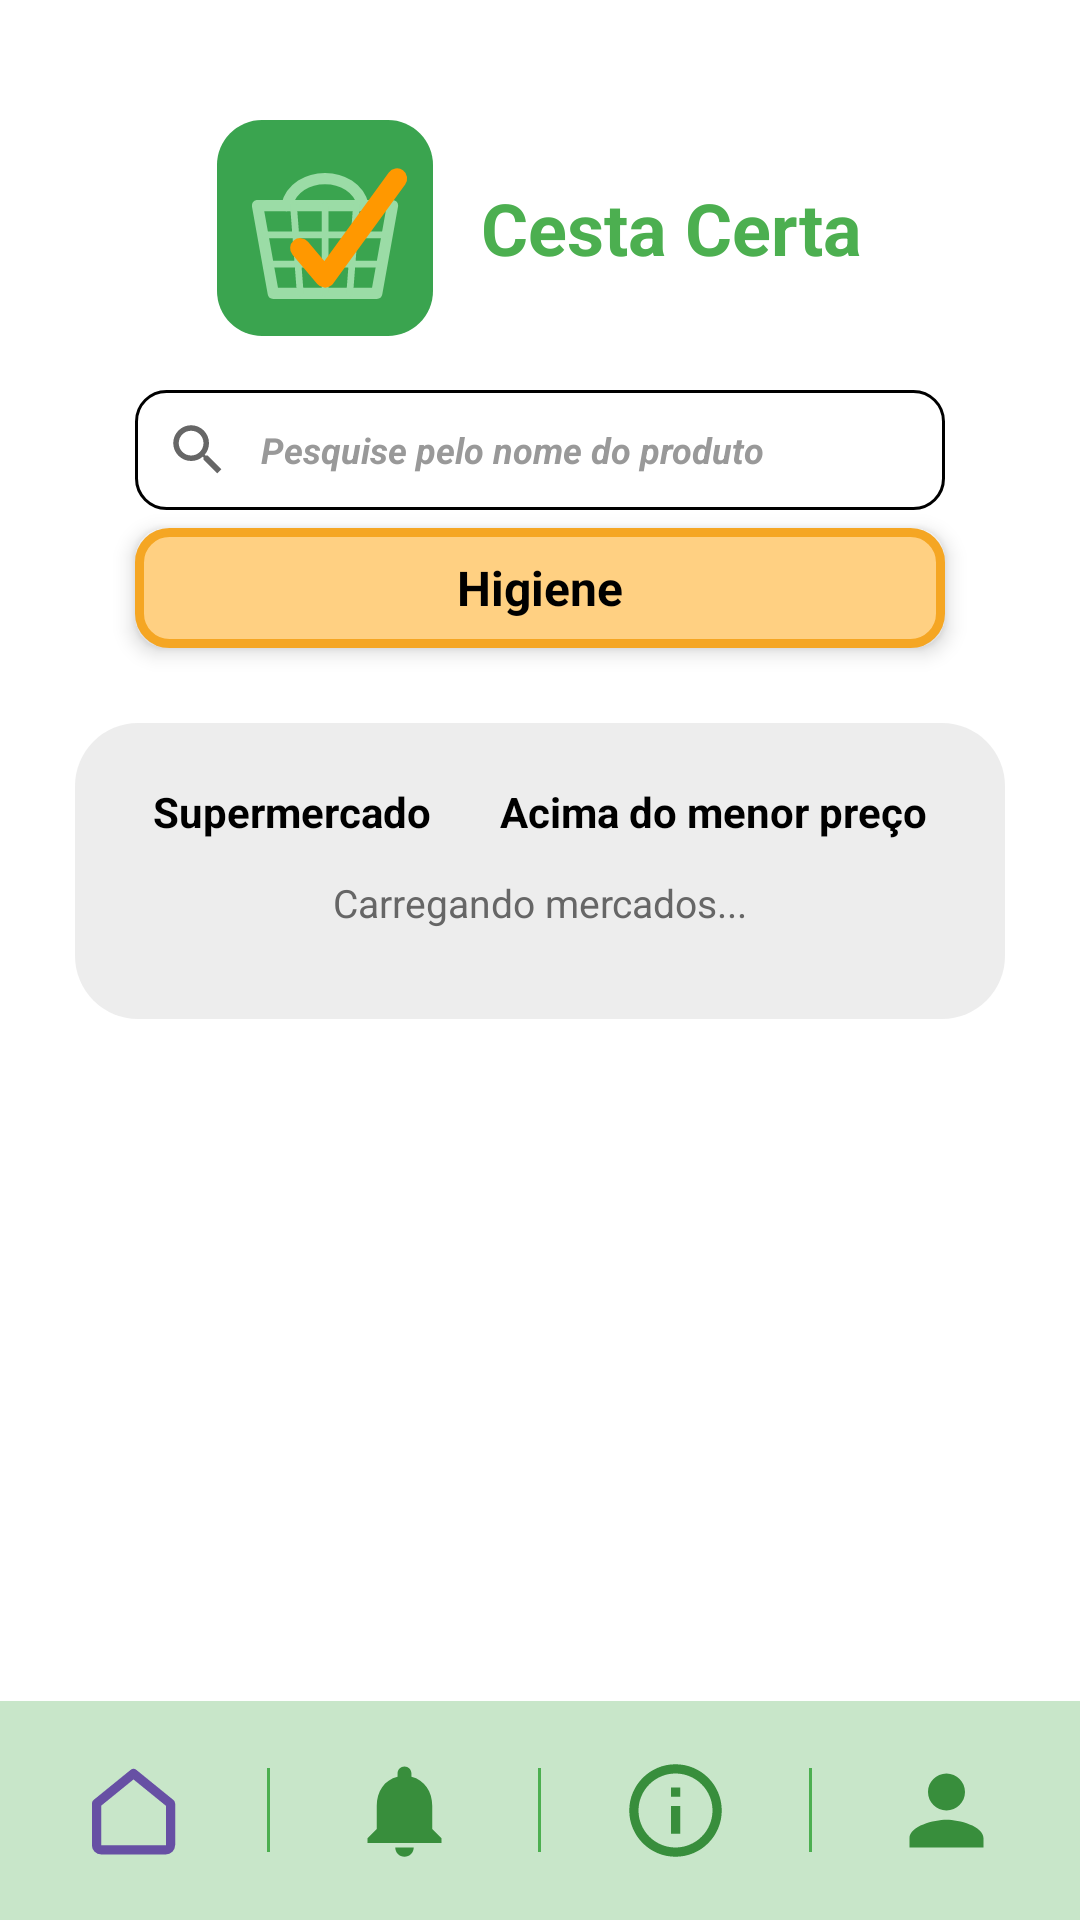

Named icons in this screenshot (1080*1920) and their bounding boxes, (x1, y1, x2, y2):
Início: (92, 1768, 176, 1855)
Notificações: (367, 1766, 442, 1857)
Perfil: (909, 1773, 984, 1848)
Sobre nós: (629, 1764, 722, 1857)
